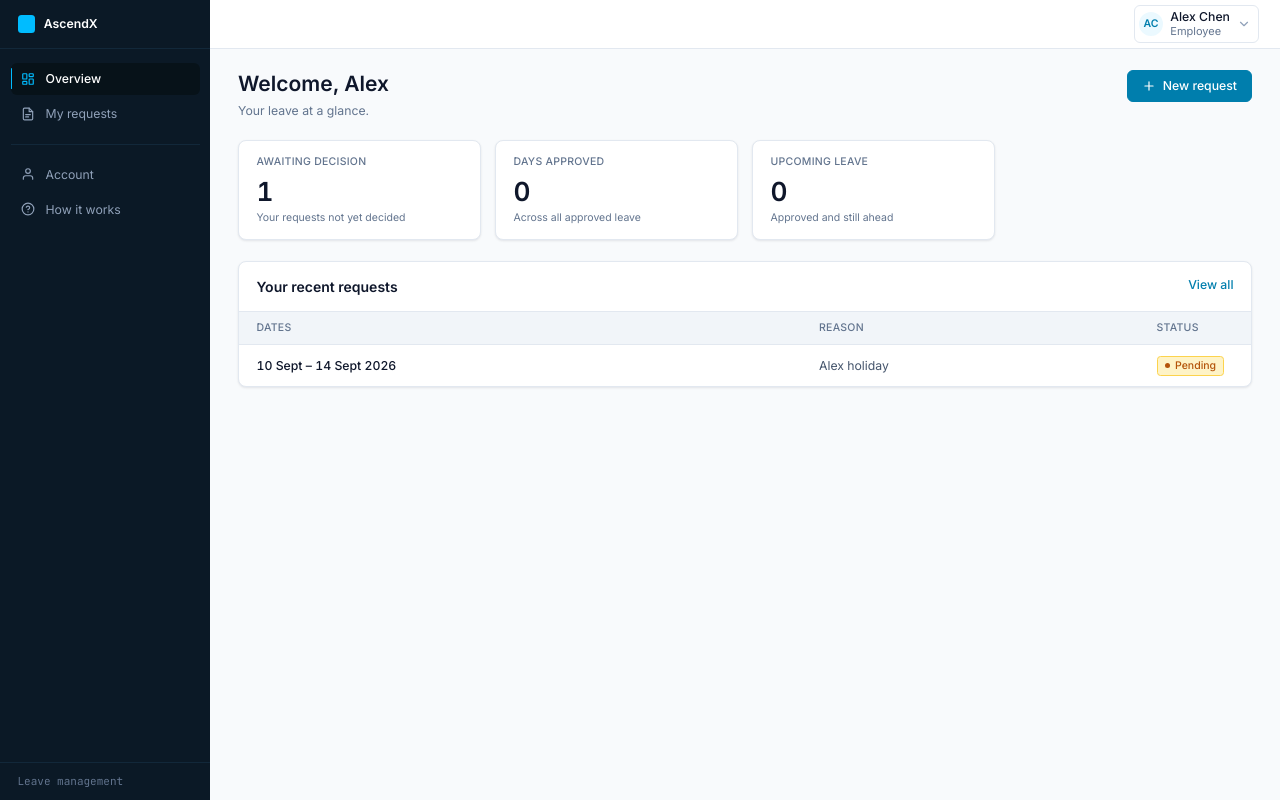
Test case: switching employee while viewing one record › leaves the overview alone
The image size is (1280, 800).
Check: the heading "Welcome, Alex" is shown, box [238,70,389,98]
Click the button "AC Alex Chen Employee". click: coordinates (1197, 24)
box: [1134,5,1259,43]
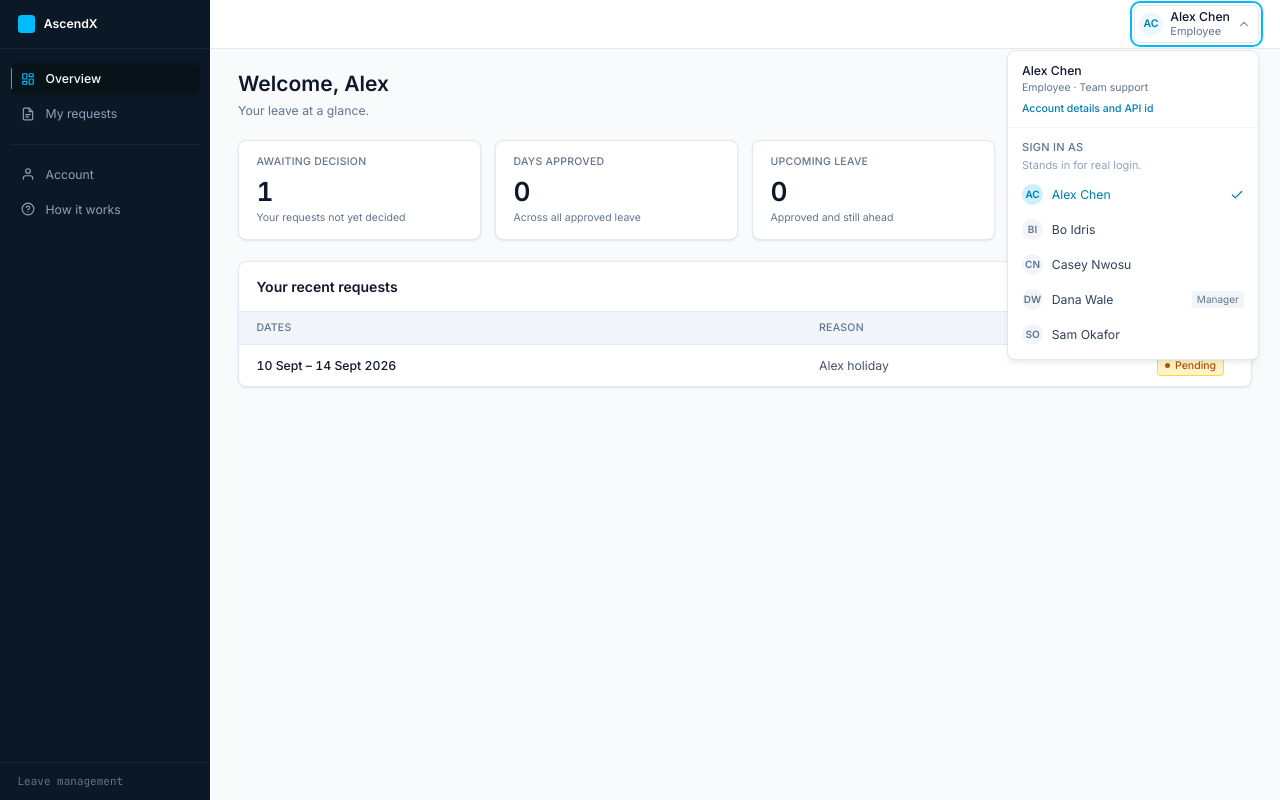
Click the menu item "BI Bo Idris". click: coordinates (1133, 230)
box: [1008,212,1258,247]
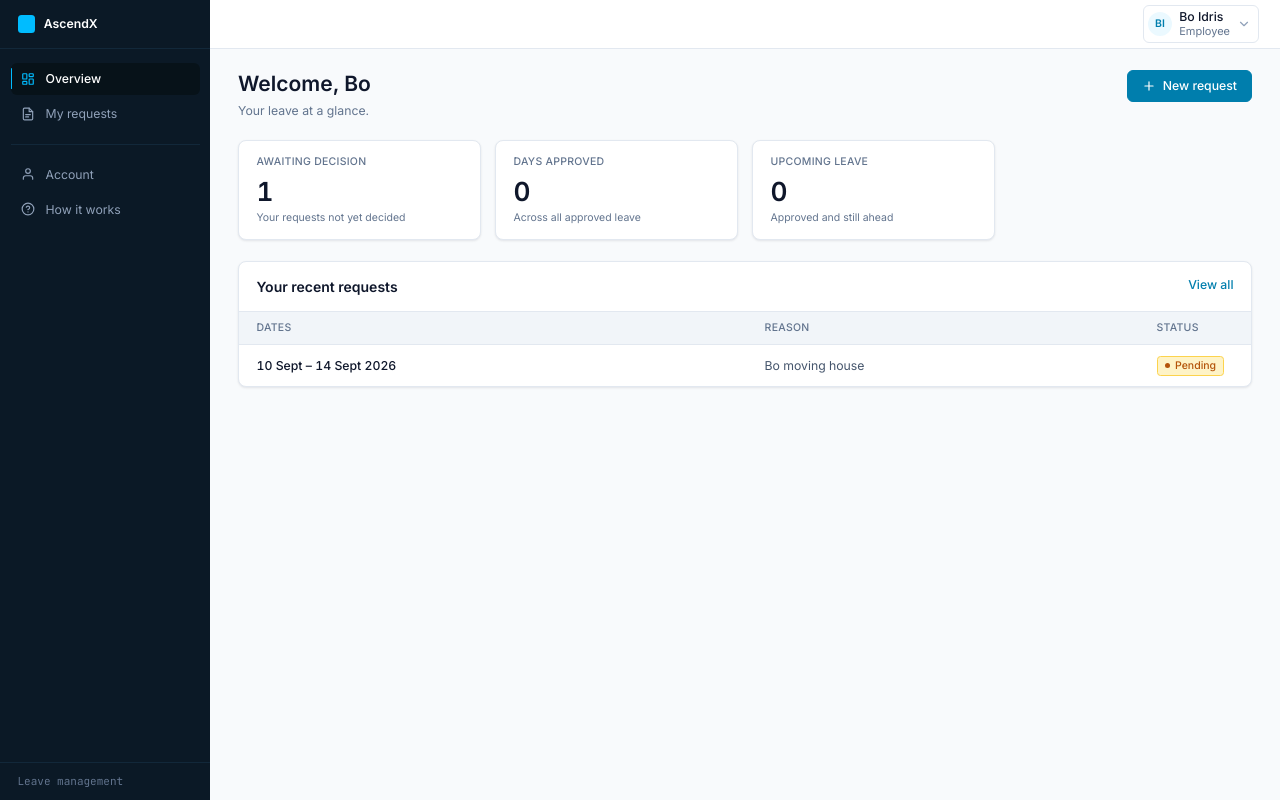
Check: the heading "Welcome, Bo" is shown, box [238,70,371,98]
